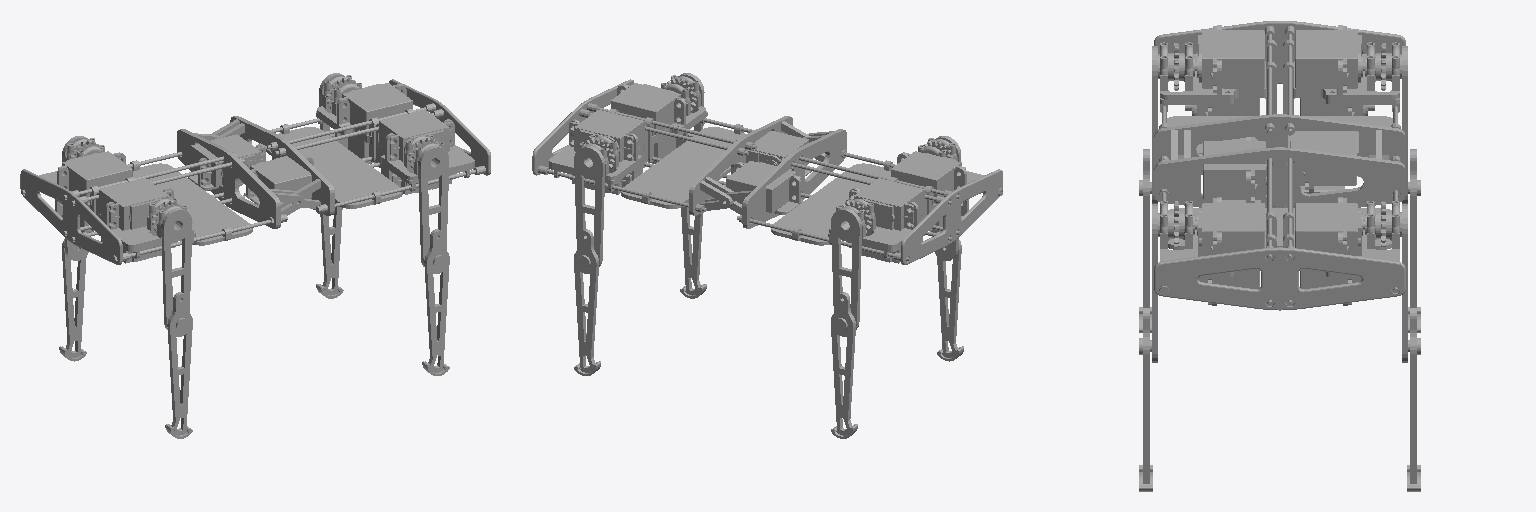
robot.urdf — puppy:
<?xml version="1.0" encoding="utf-8"?>
<!-- This URDF was automatically created by SolidWorks to URDF Exporter! Originally created by [author] ([email redacted]) 
     Commit Version: 1.6.0-1-g15f4949  Build Version: 1.6.7594.29634
     For more information, please see http://wiki.ros.org/sw_urdf_exporter -->
<robot
  name="puppy">
  <link
    name="base">
    <inertial>
      <origin
        xyz="-0.0848760098012156 0.00189338221456782 -0.00564240856897393"
        rpy="0 0 0" />
      <mass
        value="0.0877652222686672" />
      <inertia
        ixx="6.71287303766884E-05"
        ixy="-1.42010835012127E-07"
        ixz="4.15756766619336E-08"
        iyy="4.81636880074202E-05"
        iyz="1.70696982566126E-07"
        izz="0.000111971964758479" />
    </inertial>
    <visual>
      <origin
        xyz="0 0 0"
        rpy="0 0 0" />
      <geometry>
        <mesh
          filename="package://puppy/meshes/base.STL" />
      </geometry>
      <material
        name="">
        <color
          rgba="0.698039215686274 0.698039215686274 0.698039215686274 1" />
      </material>
    </visual>
    <collision>
      <origin
        xyz="0 0 0"
        rpy="0 0 0" />
      <geometry>
        <mesh
          filename="package://puppy/meshes/base.STL" />
      </geometry>
    </collision>
  </link>
  <link
    name="BRupper">
    <inertial>
      <origin
        xyz="-1.31838984174237E-16 -0.020094052978077 -0.0261900725763579"
        rpy="0 0 0" />
      <mass
        value="0.00137186549492847" />
      <inertia
        ixx="1.09735556402532E-06"
        ixy="1.24155450080988E-22"
        ixz="-4.83173663571447E-22"
        iyy="1.12075946903692E-06"
        iyz="-7.5303696915915E-08"
        izz="9.75943333413553E-08" />
    </inertial>
    <visual>
      <origin
        xyz="0 0 0"
        rpy="0 0 0" />
      <geometry>
        <mesh
          filename="package://puppy/meshes/BRupper.STL" />
      </geometry>
      <material
        name="">
        <color
          rgba="0.698039215686274 0.698039215686274 0.698039215686274 1" />
      </material>
    </visual>
    <collision>
      <origin
        xyz="0 0 0"
        rpy="0 0 0" />
      <geometry>
        <mesh
          filename="package://puppy/meshes/BRupper.STL" />
      </geometry>
    </collision>
  </link>
  <joint
    name="BRshoulder"
    type="revolute">
    <origin
      xyz="-0.1119 -0.050428 0.011667"
      rpy="0 0 0" />
    <parent
      link="base" />
    <child
      link="BRupper" />
    <axis
      xyz="0 -1 0" />
    <limit
      lower="-1.57"
      upper="1.57"
      effort="0.1"
      velocity="6.54" />
  </joint>
  <link
    name="BRlower">
    <inertial>
      <origin
        xyz="-0.000234833099330624 -0.00375952629312543 -0.0349690079990731"
        rpy="0 0 0" />
      <mass
        value="0.000794658956651044" />
      <inertia
        ixx="4.53670562589244E-07"
        ixy="-4.56552878947085E-15"
        ixz="3.03735156000809E-10"
        iyy="4.71980771396109E-07"
        iyz="-1.84817920781324E-10"
        izz="2.09778315483401E-08" />
    </inertial>
    <visual>
      <origin
        xyz="0 0 0"
        rpy="0 0 0" />
      <geometry>
        <mesh
          filename="package://puppy/meshes/BRlower.STL" />
      </geometry>
      <material
        name="">
        <color
          rgba="0.698039215686274 0.698039215686274 0.698039215686274 1" />
      </material>
    </visual>
    <collision>
      <origin
        xyz="0 0 0"
        rpy="0 0 0" />
      <geometry>
        <mesh
          filename="package://puppy/meshes/BRlower.STL" />
      </geometry>
    </collision>
  </link>
  <joint
    name="BRknee"
    type="revolute">
    <origin
      xyz="0 -0.02525 -0.08"
      rpy="0 0 0" />
    <parent
      link="BRupper" />
    <child
      link="BRlower" />
    <axis
      xyz="0 1 0" />
    <limit
      lower="-1.57"
      upper="1.57"
      effort="0.1"
      velocity="6.54" />
  </joint>
  <link
    name="BRendeffector">
    <inertial>
      <origin
        xyz="8.46545056276682E-16 -0.00025 -1.4432899320127E-15"
        rpy="0 0 0" />
      <mass
        value="1.25E-07" />
      <inertia
        ixx="5.20833333333336E-15"
        ixy="-4.65376336266319E-32"
        ixz="0"
        iyy="5.20833333333336E-15"
        iyz="2.56900541685569E-31"
        izz="5.20833333333336E-15" />
    </inertial>
    <visual>
      <origin
        xyz="0 0 0"
        rpy="0 0 0" />
      <geometry>
        <mesh
          filename="package://puppy/meshes/BRendeffector.STL" />
      </geometry>
      <material
        name="">
        <color
          rgba="0.792156862745098 0.819607843137255 0.933333333333333 1" />
      </material>
    </visual>
    <collision>
      <origin
        xyz="0 0 0"
        rpy="0 0 0" />
      <geometry>
        <mesh
          filename="package://puppy/meshes/BRendeffector.STL" />
      </geometry>
    </collision>
  </link>
  <joint
    name="BRendeffector"
    type="fixed">
    <origin
      xyz="-0.00335185708458729 -0.0035 -0.0940731336771356"
      rpy="0 0 0" />
    <parent
      link="BRlower" />
    <child
      link="BRendeffector" />
    <axis
      xyz="0 0 0" />
  </joint>
  <link
    name="BLupper">
    <inertial>
      <origin
        xyz="-1.87350135405495E-16 0.0200940529780769 -0.0261900725763579"
        rpy="0 0 0" />
      <mass
        value="0.00137186549492847" />
      <inertia
        ixx="1.09735556402533E-06"
        ixy="-1.21831621736347E-22"
        ixz="-4.9835387567068E-22"
        iyy="1.12075946903692E-06"
        iyz="7.53036969159152E-08"
        izz="9.75943333413565E-08" />
    </inertial>
    <visual>
      <origin
        xyz="0 0 0"
        rpy="0 0 0" />
      <geometry>
        <mesh
          filename="package://puppy/meshes/BLupper.STL" />
      </geometry>
      <material
        name="">
        <color
          rgba="0.698039215686274 0.698039215686274 0.698039215686274 1" />
      </material>
    </visual>
    <collision>
      <origin
        xyz="0 0 0"
        rpy="0 0 0" />
      <geometry>
        <mesh
          filename="package://puppy/meshes/BLupper.STL" />
      </geometry>
    </collision>
  </link>
  <joint
    name="BLshoulder"
    type="revolute">
    <origin
      xyz="-0.1119 0.051072 0.011667"
      rpy="0 0 0" />
    <parent
      link="base" />
    <child
      link="BLupper" />
    <axis
      xyz="0 -1 0" />
    <limit
      lower="-1.57"
      upper="1.57"
      effort="0.1"
      velocity="6.54" />
  </joint>
  <link
    name="BLlower">
    <inertial>
      <origin
        xyz="-0.000234833099331359 0.00300951756216829 -0.0349690079990735"
        rpy="0 0 0" />
      <mass
        value="0.000794658956651045" />
      <inertia
        ixx="4.53670562589244E-07"
        ixy="-4.56552869479571E-15"
        ixz="3.03735156000754E-10"
        iyy="4.71980771396108E-07"
        iyz="1.84793289189801E-10"
        izz="2.09778315483401E-08" />
    </inertial>
    <visual>
      <origin
        xyz="0 0 0"
        rpy="0 0 0" />
      <geometry>
        <mesh
          filename="package://puppy/meshes/BLlower.STL" />
      </geometry>
      <material
        name="">
        <color
          rgba="0.698039215686274 0.698039215686274 0.698039215686274 1" />
      </material>
    </visual>
    <collision>
      <origin
        xyz="0 0 0"
        rpy="0 0 0" />
      <geometry>
        <mesh
          filename="package://puppy/meshes/BLlower.STL" />
      </geometry>
    </collision>
  </link>
  <joint
    name="BLknee"
    type="revolute">
    <origin
      xyz="0 0.0260000000000003 -0.08"
      rpy="0 0 0" />
    <parent
      link="BLupper" />
    <child
      link="BLlower" />
    <axis
      xyz="0 -1 0" />
    <limit
      lower="-1.57"
      upper="1.57"
      effort="0.1"
      velocity="6.54" />
  </joint>
  <link
    name="BLendeffoctor">
    <inertial>
      <origin
        xyz="1.38777878078145E-17 -0.00025000000000026 -3.88578058618805E-16"
        rpy="0 0 0" />
      <mass
        value="1.25E-07" />
      <inertia
        ixx="5.20833333333336E-15"
        ixy="-4.65376336266319E-32"
        ixz="0"
        iyy="5.20833333333336E-15"
        iyz="2.56900541685569E-31"
        izz="5.20833333333336E-15" />
    </inertial>
    <visual>
      <origin
        xyz="0 0 0"
        rpy="0 0 0" />
      <geometry>
        <mesh
          filename="package://puppy/meshes/BLendeffoctor.STL" />
      </geometry>
      <material
        name="">
        <color
          rgba="0.792156862745098 0.819607843137255 0.933333333333333 1" />
      </material>
    </visual>
    <collision>
      <origin
        xyz="0 0 0"
        rpy="0 0 0" />
      <geometry>
        <mesh
          filename="package://puppy/meshes/BLendeffoctor.STL" />
      </geometry>
    </collision>
  </link>
  <joint
    name="BLendeffector"
    type="fixed">
    <origin
      xyz="-0.00335185708458607 0.00375000000000001 -0.0940731336771375"
      rpy="0 0 0" />
    <parent
      link="BLlower" />
    <child
      link="BLendeffoctor" />
    <axis
      xyz="0 0 0" />
  </joint>
  <link
    name="spine">
    <inertial>
      <origin
        xyz="0.0848954100946337 -0.00145874277817329 -0.00561919311683869"
        rpy="0 0 0" />
      <mass
        value="0.0877632579108011" />
      <inertia
        ixx="6.71281140054909E-05"
        ixy="-1.42011560341303E-07"
        ixz="-3.91766176083604E-08"
        iyy="4.81618566414868E-05"
        iyz="-1.70756262031556E-07"
        izz="0.00011197071837313" />
    </inertial>
    <visual>
      <origin
        xyz="0 0 0"
        rpy="0 0 0" />
      <geometry>
        <mesh
          filename="package://puppy/meshes/spine.STL" />
      </geometry>
      <material
        name="">
        <color
          rgba="0.698039215686274 0.698039215686274 0.698039215686274 1" />
      </material>
    </visual>
    <collision>
      <origin
        xyz="0 0 0"
        rpy="0 0 0" />
      <geometry>
        <mesh
          filename="package://puppy/meshes/spine.STL" />
      </geometry>
    </collision>
  </link>
  <joint
    name="spineJoint"
    type="revolute">
    <origin
      xyz="0 0 0"
      rpy="0 0 0" />
    <parent
      link="base" />
    <child
      link="spine" />
    <axis
      xyz="0 1 0" />
    <limit
      lower="-1.4"
      upper="1.4"
      effort="0.2"
      velocity="6.54" />
  </joint>
  <link
    name="FRupper">
    <inertial>
      <origin
        xyz="1.73757373583827E-06 -0.020094052978077 -0.0261900725187185"
        rpy="0 0 0" />
      <mass
        value="0.00137186549492847" />
      <inertia
        ixx="1.09735555962475E-06"
        ixy="4.99600471105703E-12"
        ixz="6.63289056448277E-11"
        iyy="1.12075946903692E-06"
        iyz="-7.53036967501856E-08"
        izz="9.75943377419297E-08" />
    </inertial>
    <visual>
      <origin
        xyz="0 0 0"
        rpy="0 0 0" />
      <geometry>
        <mesh
          filename="package://puppy/meshes/FRupper.STL" />
      </geometry>
      <material
        name="">
        <color
          rgba="0.698039215686274 0.698039215686274 0.698039215686274 1" />
      </material>
    </visual>
    <collision>
      <origin
        xyz="0 0 0"
        rpy="0 0 0" />
      <geometry>
        <mesh
          filename="package://puppy/meshes/FRupper.STL" />
      </geometry>
    </collision>
  </link>
  <joint
    name="FRshoulder"
    type="revolute">
    <origin
      xyz="0.111920857196909 -0.050428332870113 0.0116669609012932"
      rpy="0 0 0" />
    <parent
      link="spine" />
    <child
      link="FRupper" />
    <axis
      xyz="0 -1 0" />
    <limit
      lower="-1.57"
      upper="1.57"
      effort="0.1"
      velocity="6.54" />
  </joint>
  <link
    name="FRlower">
    <inertial>
      <origin
        xyz="-0.000234833099330173 -0.0037595262931242 -0.0349690079990745"
        rpy="0 0 0" />
      <mass
        value="0.000794658956651045" />
      <inertia
        ixx="4.53670562589245E-07"
        ixy="-4.56552878950674E-15"
        ixz="3.03735156000671E-10"
        iyy="4.71980771396109E-07"
        iyz="-1.84817920781225E-10"
        izz="2.09778315483401E-08" />
    </inertial>
    <visual>
      <origin
        xyz="0 0 0"
        rpy="0 0 0" />
      <geometry>
        <mesh
          filename="package://puppy/meshes/FRlower.STL" />
      </geometry>
      <material
        name="">
        <color
          rgba="0.698039215686274 0.698039215686274 0.698039215686274 1" />
      </material>
    </visual>
    <collision>
      <origin
        xyz="0 0 0"
        rpy="0 0 0" />
      <geometry>
        <mesh
          filename="package://puppy/meshes/FRlower.STL" />
      </geometry>
    </collision>
  </link>
  <joint
    name="FRknee"
    type="revolute">
    <origin
      xyz="0 -0.02525 -0.079999999823935"
      rpy="0 0 0" />
    <parent
      link="FRupper" />
    <child
      link="FRlower" />
    <axis
      xyz="0 1 0" />
    <limit
      lower="-1.57"
      upper="1.57"
      effort="0.1"
      velocity="6.54" />
  </joint>
  <link
    name="FRendeffector">
    <inertial>
      <origin
        xyz="-0.00025 -0.00025 -0.00025"
        rpy="0 0 0" />
      <mass
        value="1.25E-07" />
      <inertia
        ixx="5.20833333333336E-15"
        ixy="-4.65376336266319E-32"
        ixz="-4.22294922890066E-48"
        iyy="5.20833333333336E-15"
        iyz="2.56900541685569E-31"
        izz="5.20833333333336E-15" />
    </inertial>
    <visual>
      <origin
        xyz="0 0 0"
        rpy="0 0 0" />
      <geometry>
        <mesh
          filename="package://puppy/meshes/FRendeffector.STL" />
      </geometry>
      <material
        name="">
        <color
          rgba="0.792156862745098 0.819607843137255 0.933333333333333 1" />
      </material>
    </visual>
    <collision>
      <origin
        xyz="0 0 0"
        rpy="0 0 0" />
      <geometry>
        <mesh
          filename="package://puppy/meshes/FRendeffector.STL" />
      </geometry>
    </collision>
  </link>
  <joint
    name="FRendeffector"
    type="fixed">
    <origin
      xyz="-0.00310185708458594 -0.00349999999999998 -0.0938231336771371"
      rpy="0 0 0" />
    <parent
      link="FRlower" />
    <child
      link="FRendeffector" />
    <axis
      xyz="0 0 0" />
  </joint>
  <link
    name="FLupper">
    <inertial>
      <origin
        xyz="1.73757373822525E-06 0.0200940529780769 -0.0261900725187148"
        rpy="0 0 0" />
      <mass
        value="0.00137186549492847" />
      <inertia
        ixx="1.09735555962475E-06"
        ixy="-4.99600471144892E-12"
        ixz="6.63289056487136E-11"
        iyy="1.12075946903692E-06"
        iyz="7.53036967501843E-08"
        izz="9.75943377419295E-08" />
    </inertial>
    <visual>
      <origin
        xyz="0 0 0"
        rpy="0 0 0" />
      <geometry>
        <mesh
          filename="package://puppy/meshes/FLupper.STL" />
      </geometry>
      <material
        name="">
        <color
          rgba="0.698039215686274 0.698039215686274 0.698039215686274 1" />
      </material>
    </visual>
    <collision>
      <origin
        xyz="0 0 0"
        rpy="0 0 0" />
      <geometry>
        <mesh
          filename="package://puppy/meshes/FLupper.STL" />
      </geometry>
    </collision>
  </link>
  <joint
    name="FLshoulder"
    type="revolute">
    <origin
      xyz="0.111920857196909 0.051071667129887 0.011666960901293"
      rpy="0 0 0" />
    <parent
      link="spine" />
    <child
      link="FLupper" />
    <axis
      xyz="0 1 0" />
    <limit
      lower="-1.57"
      upper="1.57"
      effort="0.1"
      velocity="6.54" />
  </joint>
  <link
    name="FLlower">
    <inertial>
      <origin
        xyz="-0.000234833099331644 0.00375951756216946 -0.0349690079990732"
        rpy="0 0 0" />
      <mass
        value="0.000794658956651044" />
      <inertia
        ixx="4.53670562589243E-07"
        ixy="-4.56552869367781E-15"
        ixz="3.03735156000756E-10"
        iyy="4.71980771396108E-07"
        iyz="1.84793289189802E-10"
        izz="2.09778315483401E-08" />
    </inertial>
    <visual>
      <origin
        xyz="0 0 0"
        rpy="0 0 0" />
      <geometry>
        <mesh
          filename="package://puppy/meshes/FLlower.STL" />
      </geometry>
      <material
        name="">
        <color
          rgba="0.698039215686274 0.698039215686274 0.698039215686274 1" />
      </material>
    </visual>
    <collision>
      <origin
        xyz="0 0 0"
        rpy="0 0 0" />
      <geometry>
        <mesh
          filename="package://puppy/meshes/FLlower.STL" />
      </geometry>
    </collision>
  </link>
  <joint
    name="FLknee"
    type="revolute">
    <origin
      xyz="0 0.0252499999999974 -0.0799999998239349"
      rpy="0 0 0" />
    <parent
      link="FLupper" />
    <child
      link="FLlower" />
    <axis
      xyz="0 -1 0" />
    <limit
      lower="-1.57"
      upper="1.57"
      effort="0.1"
      velocity="6.54" />
  </joint>
  <link
    name="FLendeffector">
    <inertial>
      <origin
        xyz="-0.00025 0.000249999999999133 -0.000249999999999709"
        rpy="0 0 0" />
      <mass
        value="1.25E-07" />
      <inertia
        ixx="5.20833333333336E-15"
        ixy="-4.65376336266319E-32"
        ixz="0"
        iyy="5.20833333333336E-15"
        iyz="2.56900541685569E-31"
        izz="5.20833333333336E-15" />
    </inertial>
    <visual>
      <origin
        xyz="0 0 0"
        rpy="0 0 0" />
      <geometry>
        <mesh
          filename="package://puppy/meshes/FLendeffector.STL" />
      </geometry>
      <material
        name="">
        <color
          rgba="0.792156862745098 0.819607843137255 0.933333333333333 1" />
      </material>
    </visual>
    <collision>
      <origin
        xyz="0 0 0"
        rpy="0 0 0" />
      <geometry>
        <mesh
          filename="package://puppy/meshes/FLendeffector.STL" />
      </geometry>
    </collision>
  </link>
  <joint
    name="FLendeffector"
    type="fixed">
    <origin
      xyz="-0.00310185708458682 0.00400000000000003 -0.0938231336771371"
      rpy="0 0 0" />
    <parent
      link="FLlower" />
    <child
      link="FLendeffector" />
    <axis
      xyz="0 0 0" />
  </joint>
</robot>

--- What the picture shows (computed from the rendered views, not written in the file) ---
Views: 3 orthographic renders of the robot side by side, from view 1: azimuth 30°, elevation 25°; view 2: azimuth 150°, elevation 25°; view 3: azimuth 270°, elevation 25°.
Model puppy with 14 links and 13 joints (9 revolute, 4 fixed), rooted at base, posed every joint at zero.
Visible links, largest first — view 1: base, spine, BRupper, FRupper, FRlower, BRlower, BLlower, FLlower, BLupper; view 2: base, spine, BLupper, FLupper, FLlower, BLlower, BRlower, FRlower, BRupper; view 3: spine, base, FLupper, FRupper, FRlower, FLlower, BRupper, BLupper, BRlower, BLlower.
Boxes of the visible links, bbox=[...] form: base: bbox=[20, 129, 304, 264]; spine: bbox=[210, 75, 490, 215]; BRupper: bbox=[152, 200, 192, 330]; FRupper: bbox=[408, 138, 448, 267]; FRlower: bbox=[422, 229, 449, 375]; BRlower: bbox=[165, 292, 192, 438]; BLlower: bbox=[59, 239, 86, 361]; FLlower: bbox=[316, 203, 343, 298]; BLupper: bbox=[62, 136, 99, 260]; base: bbox=[726, 129, 1002, 264]; spine: bbox=[532, 75, 811, 215]; BLupper: bbox=[831, 200, 871, 330]; FLupper: bbox=[574, 138, 614, 267]; FLlower: bbox=[574, 229, 600, 375]; BLlower: bbox=[831, 292, 857, 438]; BRlower: bbox=[937, 240, 963, 361]; FRlower: bbox=[680, 203, 706, 298]; BRupper: bbox=[923, 136, 960, 260]; spine: bbox=[1154, 137, 1405, 310]; base: bbox=[1154, 21, 1405, 193]; FLupper: bbox=[1365, 201, 1420, 362]; FRupper: bbox=[1139, 201, 1194, 362]; FRlower: bbox=[1139, 308, 1152, 491]; FLlower: bbox=[1407, 308, 1420, 491]; BRupper: bbox=[1139, 43, 1194, 203]; BLupper: bbox=[1365, 43, 1420, 203]; BRlower: bbox=[1139, 149, 1151, 332]; BLlower: bbox=[1408, 149, 1420, 332].
Bounding box of the posed robot: 0.3274 × 0.168 × 0.189 m (x, y, z).
14 mesh visuals loaded from 14 distinct referenced files (14 binary STL).